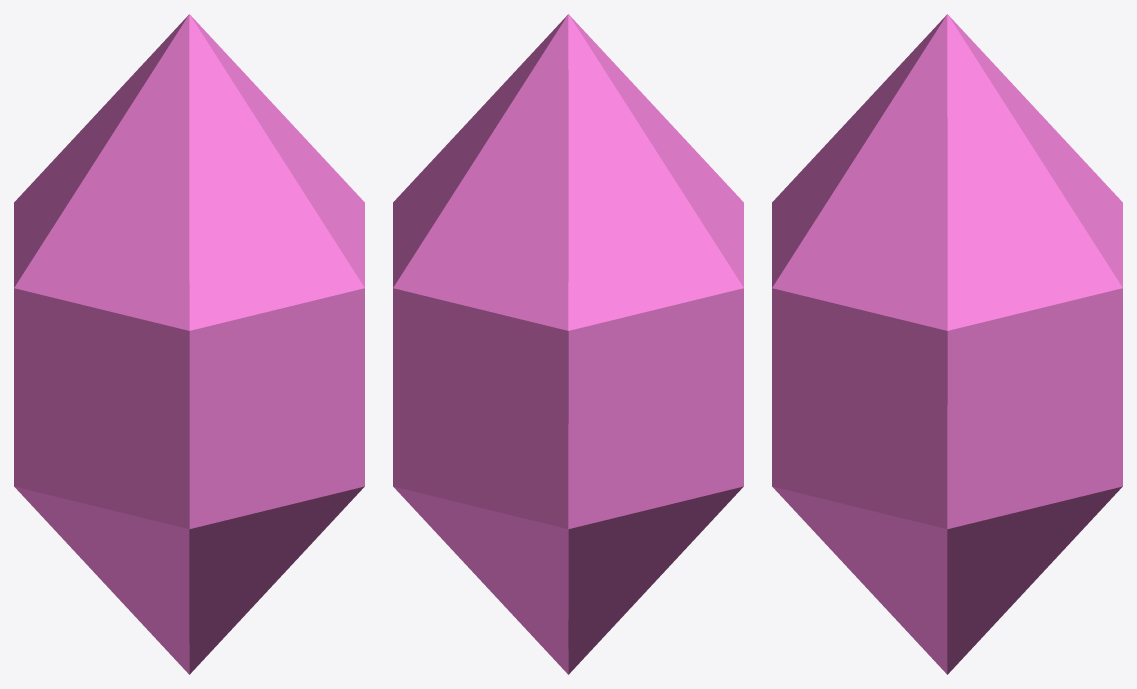
Rendered from NeonCrystal.fbx.
3 renders of one model, left to right at view 1: azimuth 30°, elevation 25°; view 2: azimuth 150°, elevation 25°; view 3: azimuth 270°, elevation 25°, orthographic.
Visible parts, largest first — view 1: Segment_2.007, Segment_3.007, Segment_4.007, Segment_12.002, Segment_11.002, Segment_10.002, Segment_8.005, Segment_1.007, Segment_9.002, Segment_7.005, Segment_16.001; view 2: Segment_7.005, Segment_6.006, Segment_8.005, Segment_16.001, Segment_15.001, Segment_14.001, Segment_2.007, Segment_4.007, Segment_3.007, Segment_1.007, Segment_13.001, Segment_5.007 (+1 smaller); view 3: Segment_10.002, Segment_11.002, Segment_15.001, Segment_12.002, Segment_14.001, Segment_16.001, Segment_9.002, Segment_8.005, Segment_4.007, Segment_13.001, Segment_7.005, Segment_3.007.
Part boxes in pixels (x1,y1,x2,y2): Segment_2.007: (14, 388, 250, 587); Segment_3.007: (14, 244, 250, 424); Segment_4.007: (37, 48, 237, 281); Segment_12.002: (175, 27, 329, 264); Segment_11.002: (237, 161, 364, 404); Segment_10.002: (220, 369, 364, 578); Segment_8.005: (37, 41, 174, 242); Segment_1.007: (87, 564, 219, 656); Segment_9.002: (172, 555, 300, 674); Segment_7.005: (14, 173, 41, 277); Segment_16.001: (159, 14, 244, 73); Segment_7.005: (488, 255, 723, 424); Segment_6.006: (488, 395, 710, 587); Segment_8.005: (506, 41, 703, 281); Segment_16.001: (428, 14, 588, 259); Segment_15.001: (393, 168, 505, 398); Segment_14.001: (393, 369, 525, 574); Segment_2.007: (614, 388, 743, 576); Segment_4.007: (590, 44, 720, 255); Segment_3.007: (704, 173, 743, 394); Segment_1.007: (549, 564, 670, 656); Segment_13.001: (457, 555, 548, 615); Segment_5.007: (526, 575, 612, 620); Segment_10.002: (772, 368, 1004, 579); Segment_11.002: (772, 194, 977, 404); Segment_15.001: (961, 200, 1122, 398); Segment_12.002: (802, 23, 961, 260); Segment_14.001: (978, 368, 1122, 566); Segment_16.001: (939, 14, 1091, 257); Segment_9.002: (836, 555, 1013, 674); Segment_8.005: (979, 48, 1095, 199); Segment_4.007: (799, 57, 907, 192); Segment_13.001: (1005, 555, 1058, 603); Segment_7.005: (1092, 173, 1122, 240); Segment_3.007: (772, 173, 801, 231).
Size of the model in its own units: 5 by 9 by 4.33.
